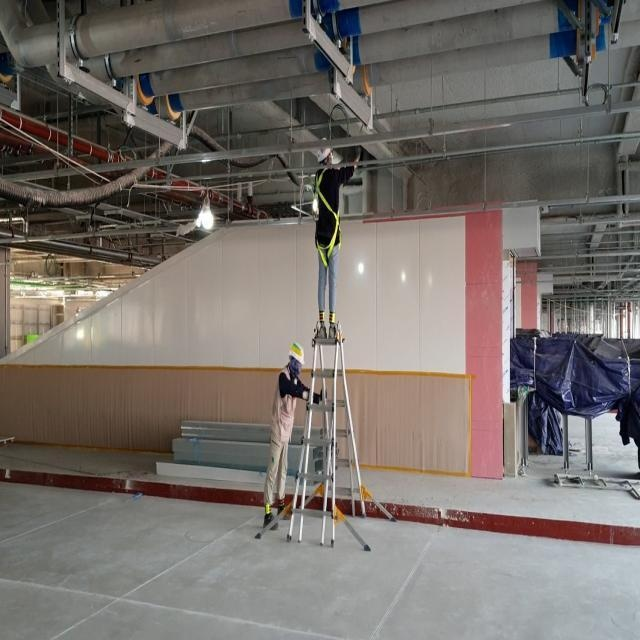Arnes_seguridad: (315, 167, 343, 266)
